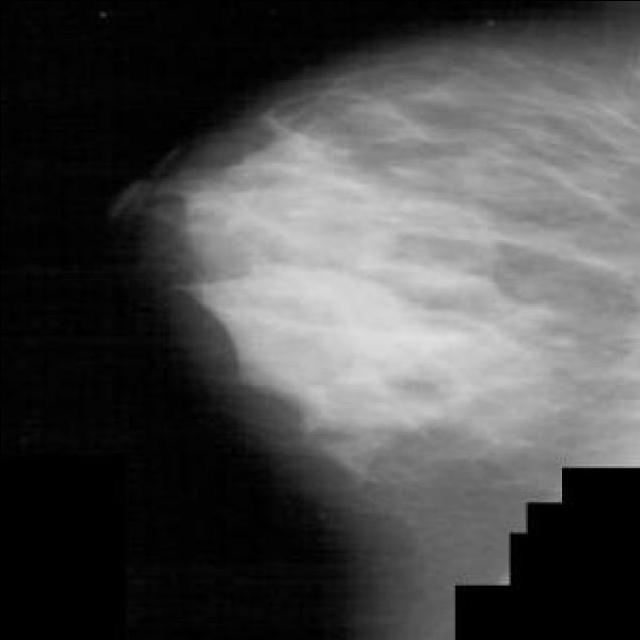tumor: (212, 126, 486, 457)
